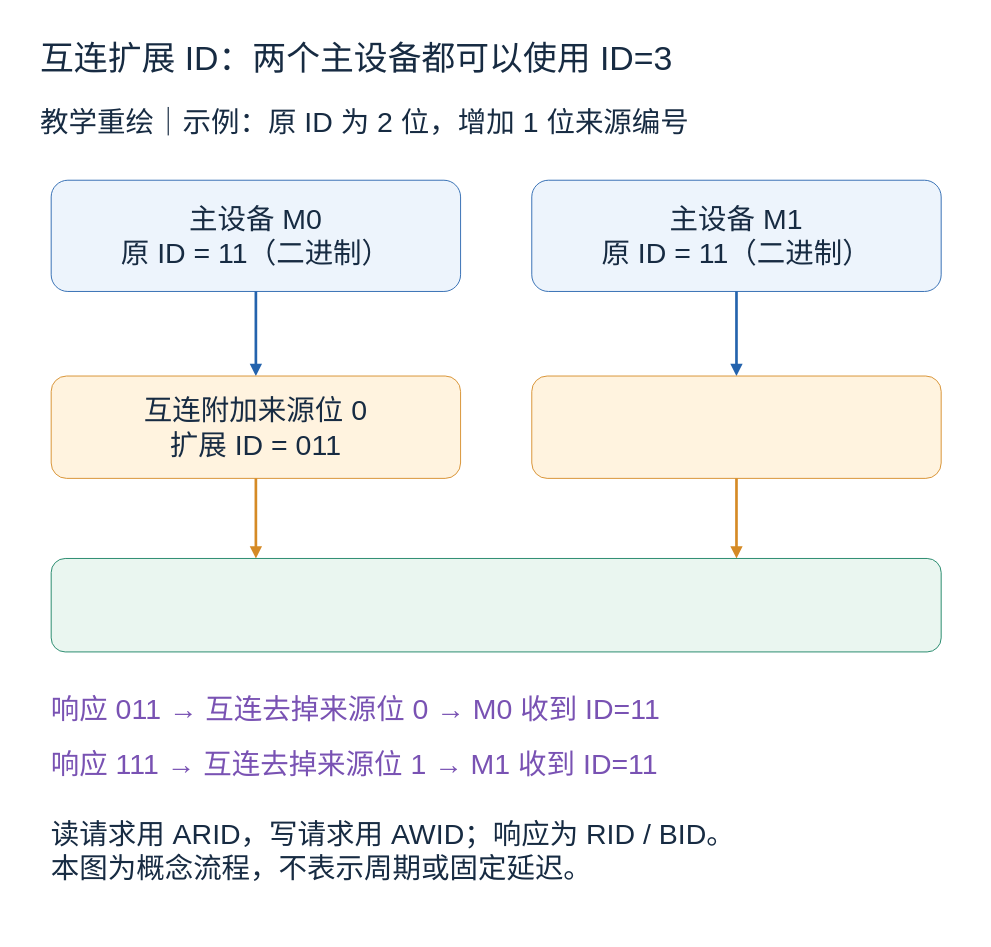
The diagram is 991 pixels wide and 947 high, and some of its shapes have lost their labels. The centre of each missing label's shape, as x and y in pixels:
"互连附加来源位 1 扩展 ID = 111" belongs at (736,426).
"从设备看到：011 和 111 响应返回相应 RID / BID" belongs at (495,605).
